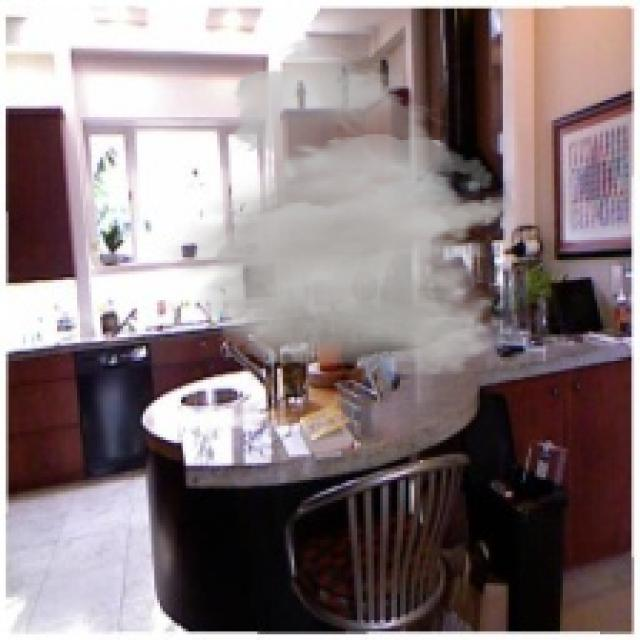smoke: (157, 26, 512, 377)
